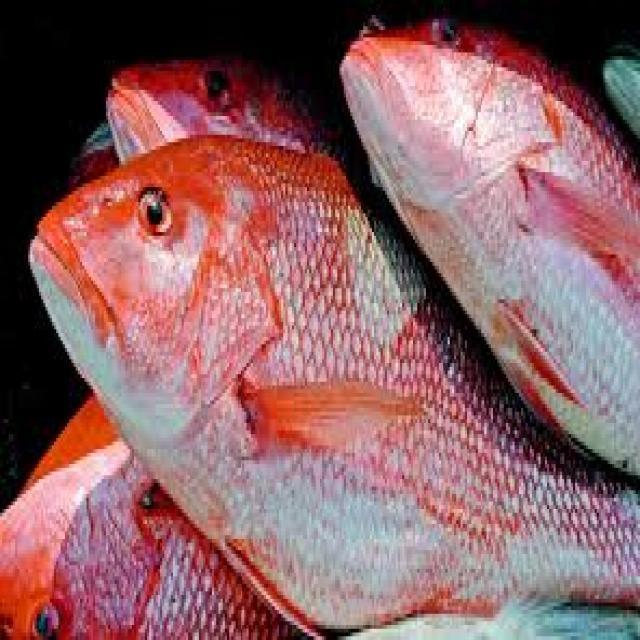northern-red-snapper: (7, 133, 640, 640), (329, 15, 640, 486), (0, 430, 320, 640), (106, 22, 328, 175)
